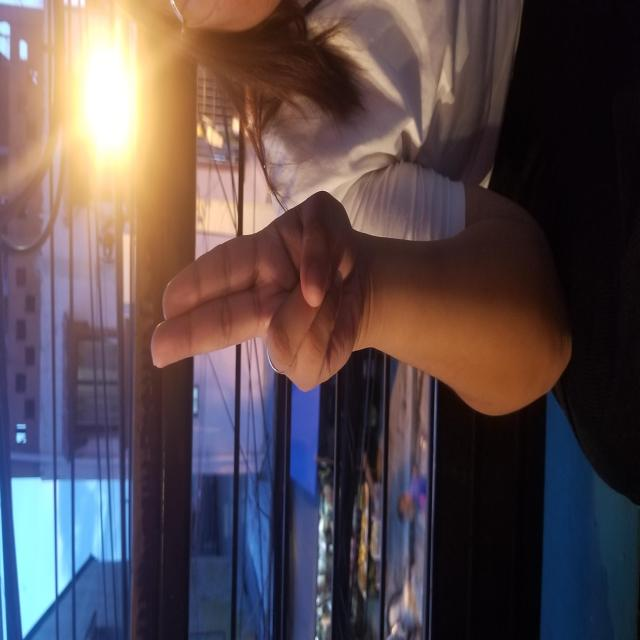U: (246, 150, 452, 366)
